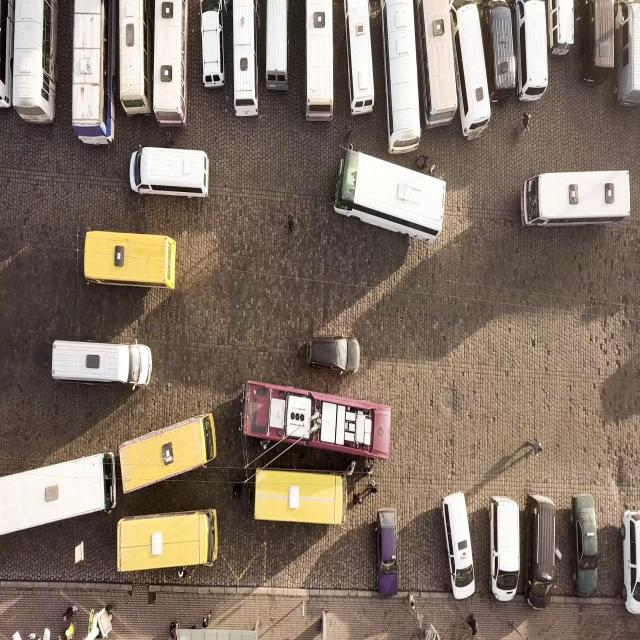Bus: (335, 154, 455, 250), (116, 413, 226, 501), (511, 168, 638, 229), (109, 513, 224, 579), (251, 464, 354, 533), (68, 0, 110, 157), (384, 0, 424, 149), (76, 230, 182, 286), (12, 0, 55, 137), (128, 140, 215, 206), (154, 0, 184, 129), (120, 0, 150, 117), (236, 0, 254, 123)
Car: (438, 489, 481, 610), (523, 481, 560, 613), (487, 488, 521, 612), (296, 330, 361, 376), (574, 494, 602, 600), (372, 506, 403, 596), (616, 502, 640, 609)
Truck: (238, 384, 397, 459), (1, 452, 118, 534), (44, 334, 150, 400), (423, 0, 458, 145), (302, 0, 336, 117), (343, 0, 373, 123), (258, 0, 293, 103), (516, 3, 548, 108), (460, 0, 483, 141), (616, 2, 640, 111), (200, 0, 226, 95), (552, 0, 578, 66)
